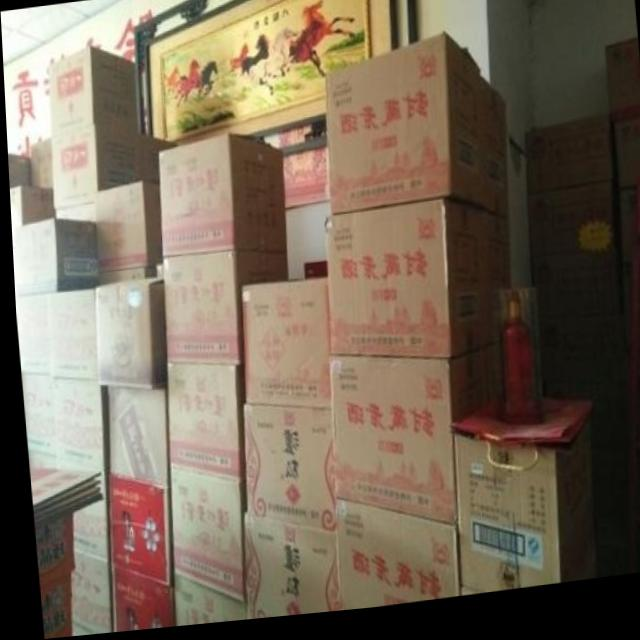box: (324, 39, 479, 220), (325, 359, 482, 532), (321, 207, 479, 367), (449, 428, 588, 601), (156, 139, 284, 257), (160, 255, 284, 367), (330, 505, 452, 617), (240, 408, 330, 539), (238, 284, 325, 414), (236, 517, 330, 624), (165, 471, 237, 604), (163, 365, 234, 486), (48, 126, 143, 210), (48, 47, 137, 135), (92, 283, 161, 391), (101, 475, 165, 588), (11, 220, 95, 296), (102, 391, 163, 489), (92, 184, 160, 271), (50, 379, 103, 472), (44, 291, 92, 382), (104, 567, 167, 634), (168, 577, 238, 629), (29, 513, 68, 592), (33, 575, 65, 639)
